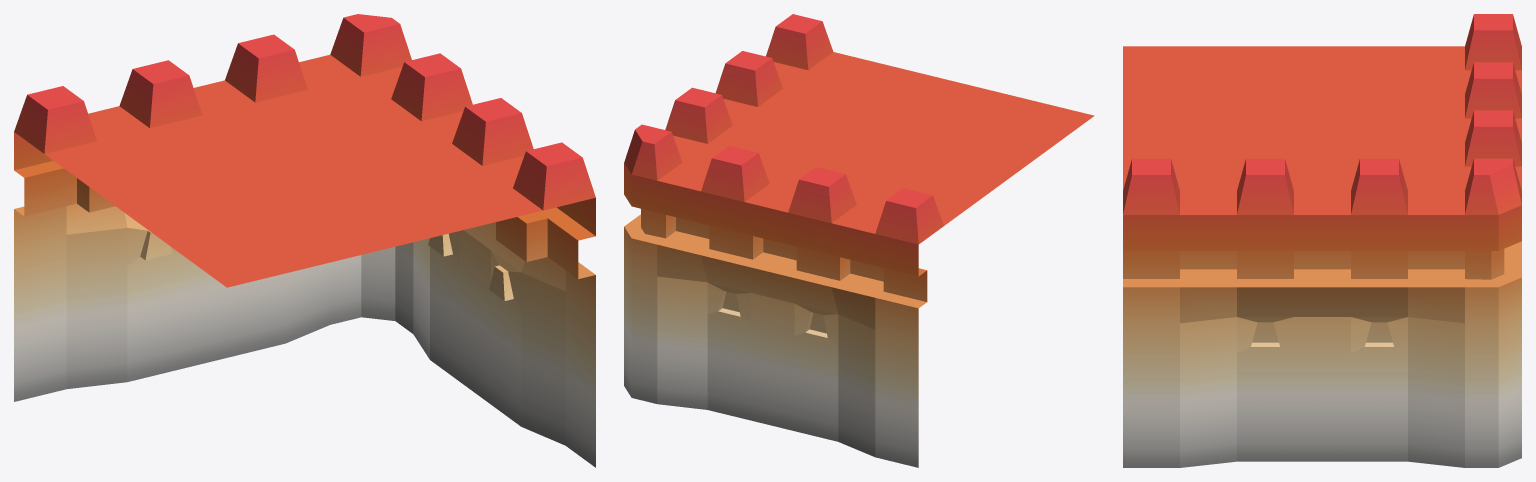
The model's file is sFort5.001.fbx.
The picture shows the model from 3 angles, left to right: view 1: azimuth 30°, elevation 25°; view 2: azimuth 150°, elevation 25°; view 3: azimuth 270°, elevation 25°; orthographic projection. The views are drawn at different scales.
Visible parts, largest first — view 1: sFort5.001; view 2: sFort5.001; view 3: sFort5.001.
Boxes of the visible parts, bbox=[...] form: sFort5.001: bbox=[14, 14, 595, 467]; sFort5.001: bbox=[624, 14, 1094, 467]; sFort5.001: bbox=[1123, 14, 1521, 467].
Bounding box in the file's own units: 100 × 80 × 100.
